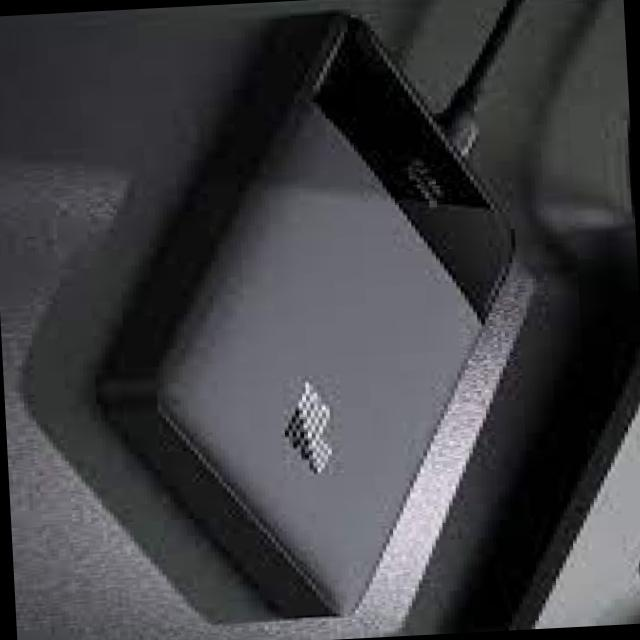portable-charger: (64, 6, 549, 637)
